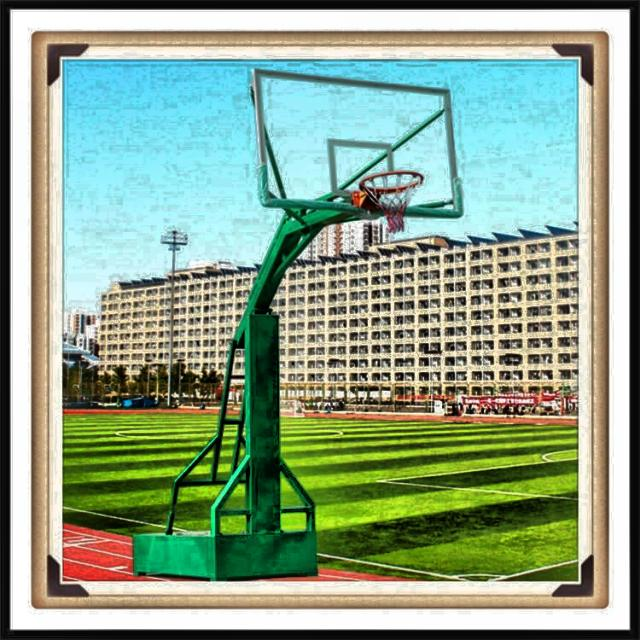rim: (363, 171, 425, 232)
